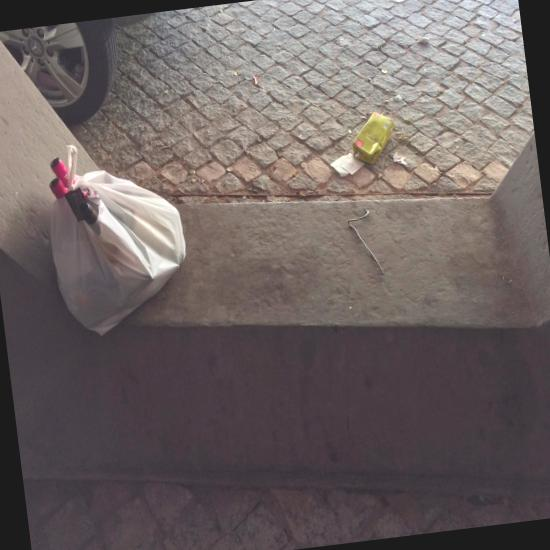Drink carton: (353, 111, 394, 164)
Glass bottle: (50, 158, 69, 187), (79, 203, 98, 224), (49, 178, 68, 199)
Metal bottle cap: (300, 162, 307, 169), (227, 166, 233, 173), (189, 169, 195, 175), (381, 69, 388, 74), (368, 76, 373, 82), (234, 71, 240, 76)
Normal paper: (330, 153, 365, 177), (393, 153, 408, 165), (417, 37, 430, 44)
Other plastic: (65, 188, 88, 221)
Scrap metal: (348, 208, 384, 274)
Single-use carrier bag: (51, 144, 186, 336)
